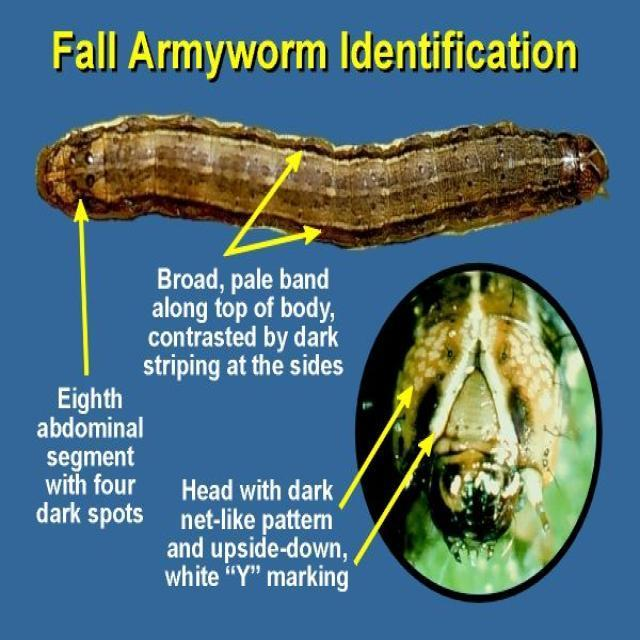army worm: (18, 105, 618, 265)
